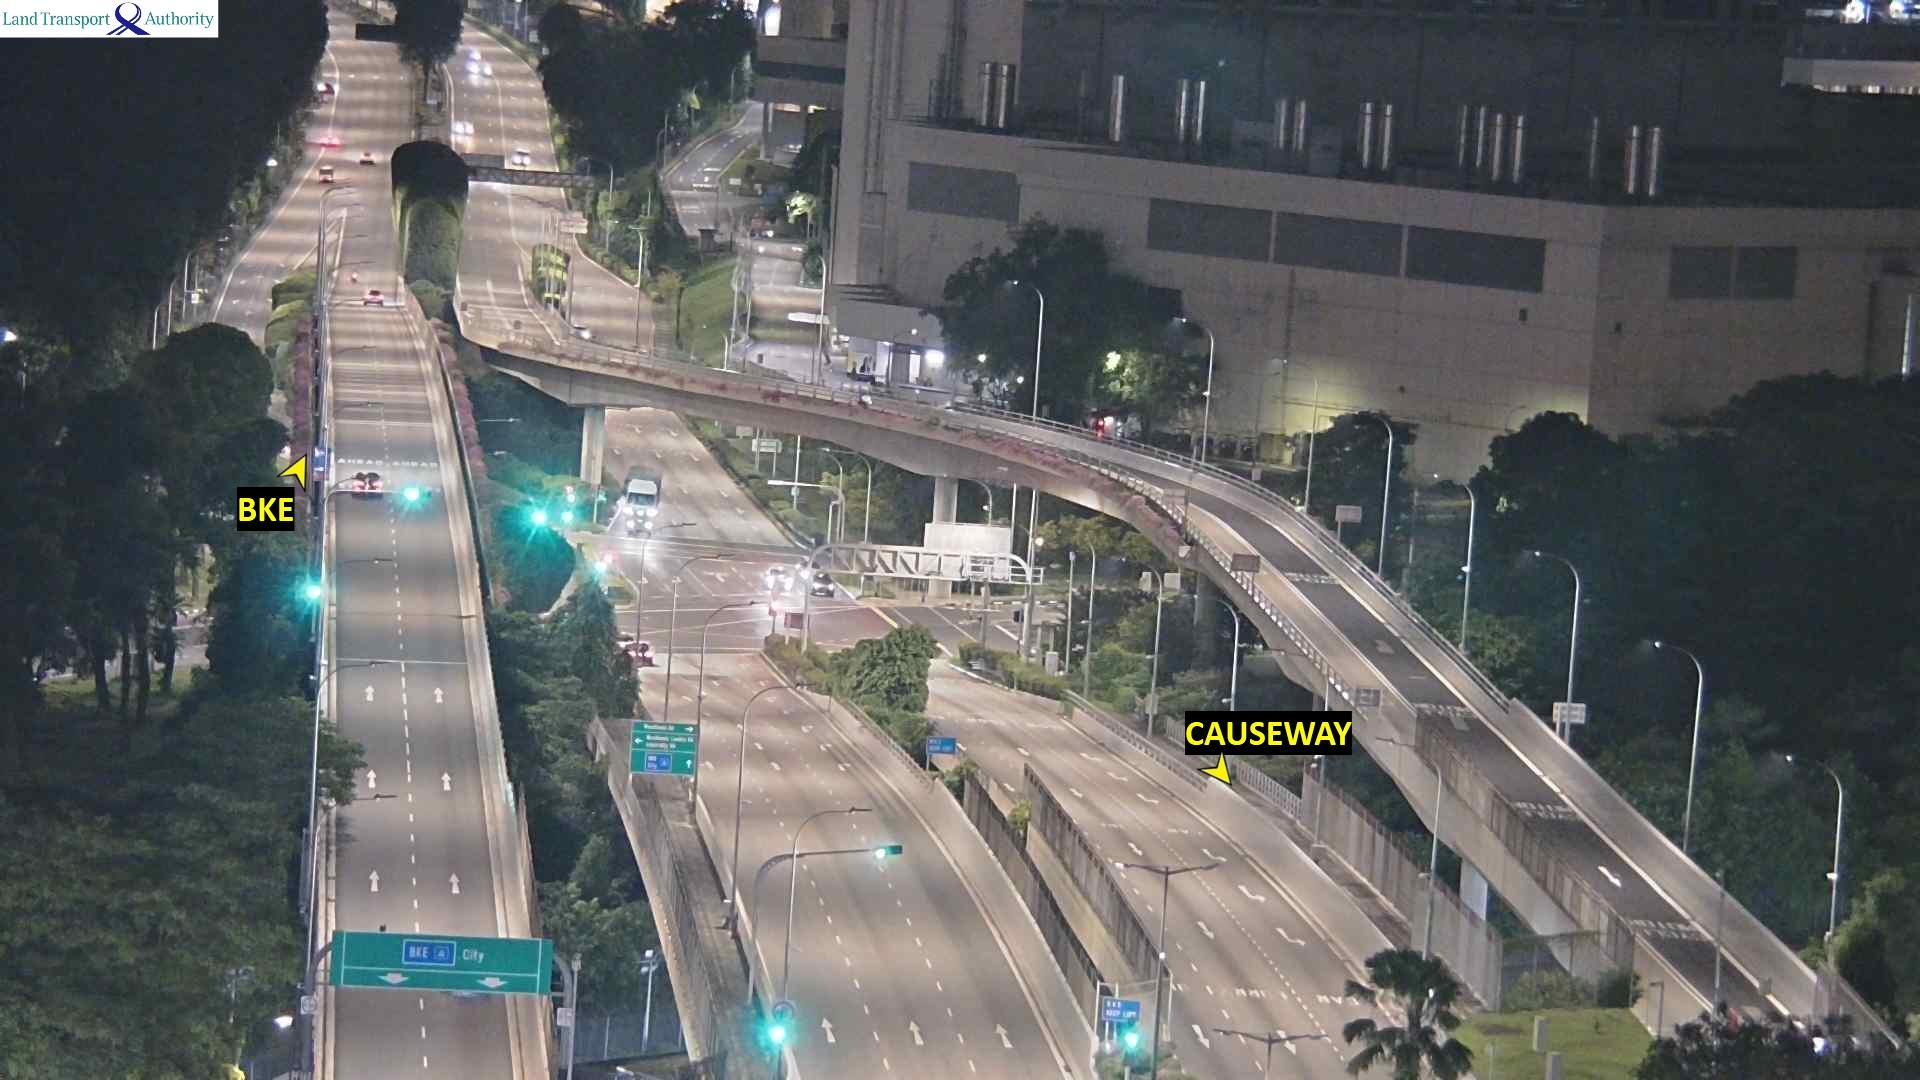vehicle-causeway-johor: (857, 390, 872, 409), (455, 120, 473, 135)
vehicle-causeway-singapore: (624, 641, 653, 667), (351, 472, 381, 497), (364, 289, 385, 307), (351, 270, 357, 282)
